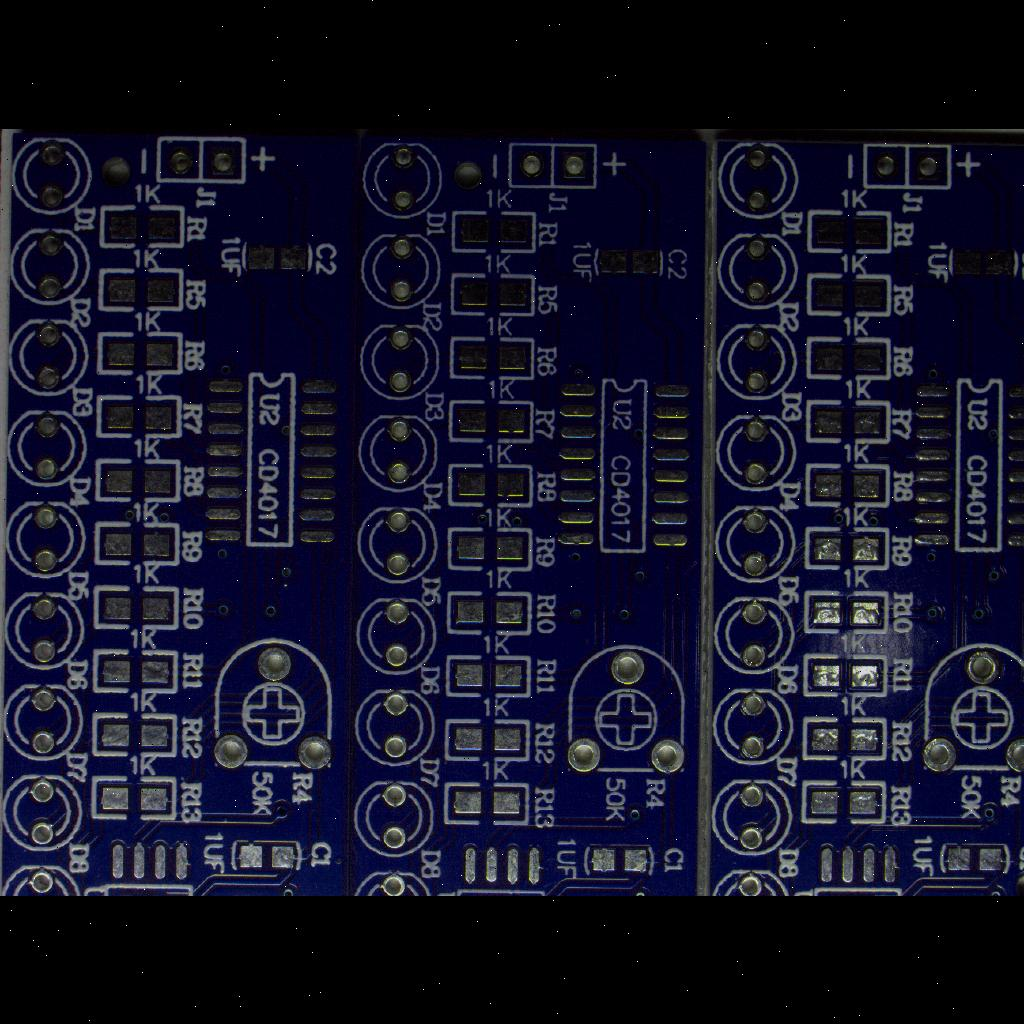NG: (198, 367, 348, 557), (551, 368, 699, 558), (905, 366, 1024, 561), (796, 774, 892, 828), (798, 708, 888, 764), (94, 198, 190, 250), (90, 706, 178, 762), (440, 777, 534, 829), (444, 522, 538, 574), (802, 459, 896, 511), (96, 262, 186, 316), (93, 453, 183, 507), (88, 643, 178, 697), (447, 267, 539, 319), (444, 586, 536, 638), (94, 328, 188, 378), (446, 206, 540, 256), (803, 206, 897, 256), (800, 650, 894, 700), (442, 714, 532, 766), (92, 517, 182, 569), (798, 588, 894, 636), (804, 269, 896, 319), (93, 391, 185, 441), (444, 396, 536, 446), (802, 333, 894, 383), (800, 522, 892, 572), (445, 333, 539, 381), (445, 461, 537, 509), (444, 653, 534, 701), (802, 398, 894, 444), (92, 584, 186, 628), (582, 834, 662, 882), (92, 775, 178, 819), (236, 238, 318, 280), (946, 242, 1024, 282), (229, 834, 303, 876), (591, 240, 665, 282), (937, 837, 1011, 875)
